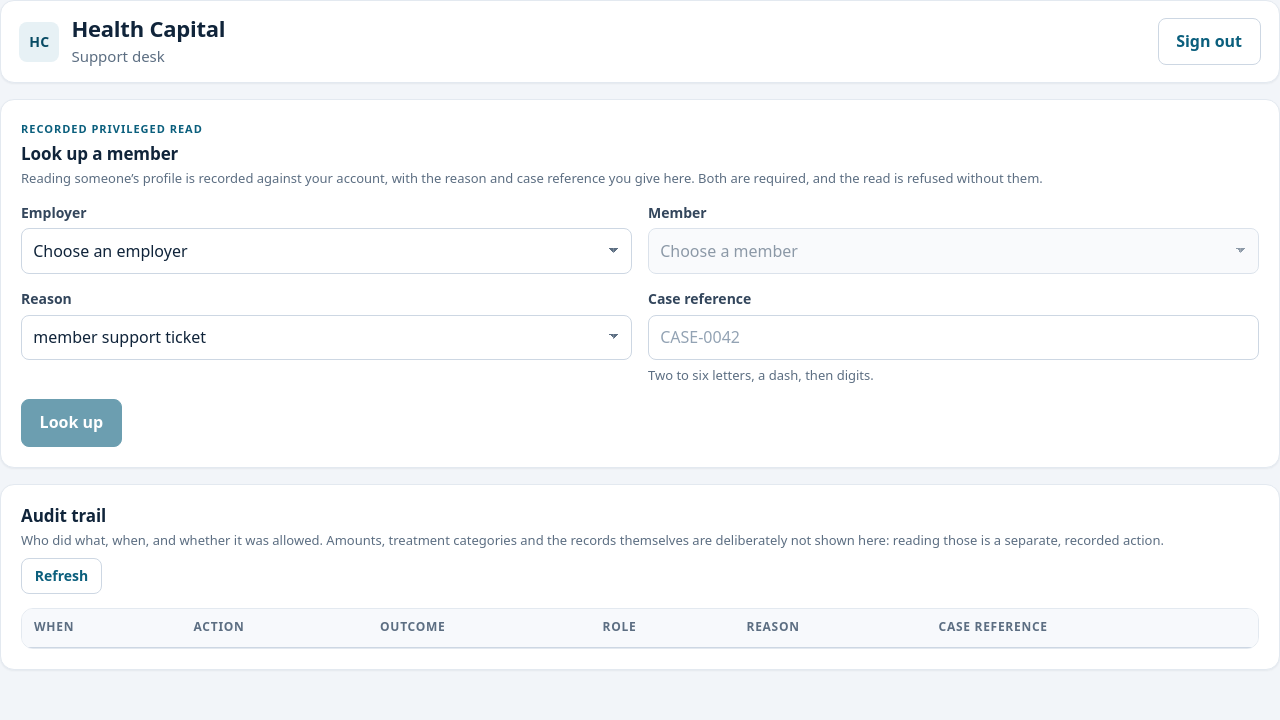
the support view requires a reason and a case reference › shows the audit trail without amounts, categories or member identifiers
Click the button "Refresh" at point(62, 576), box [21,558,102,594]
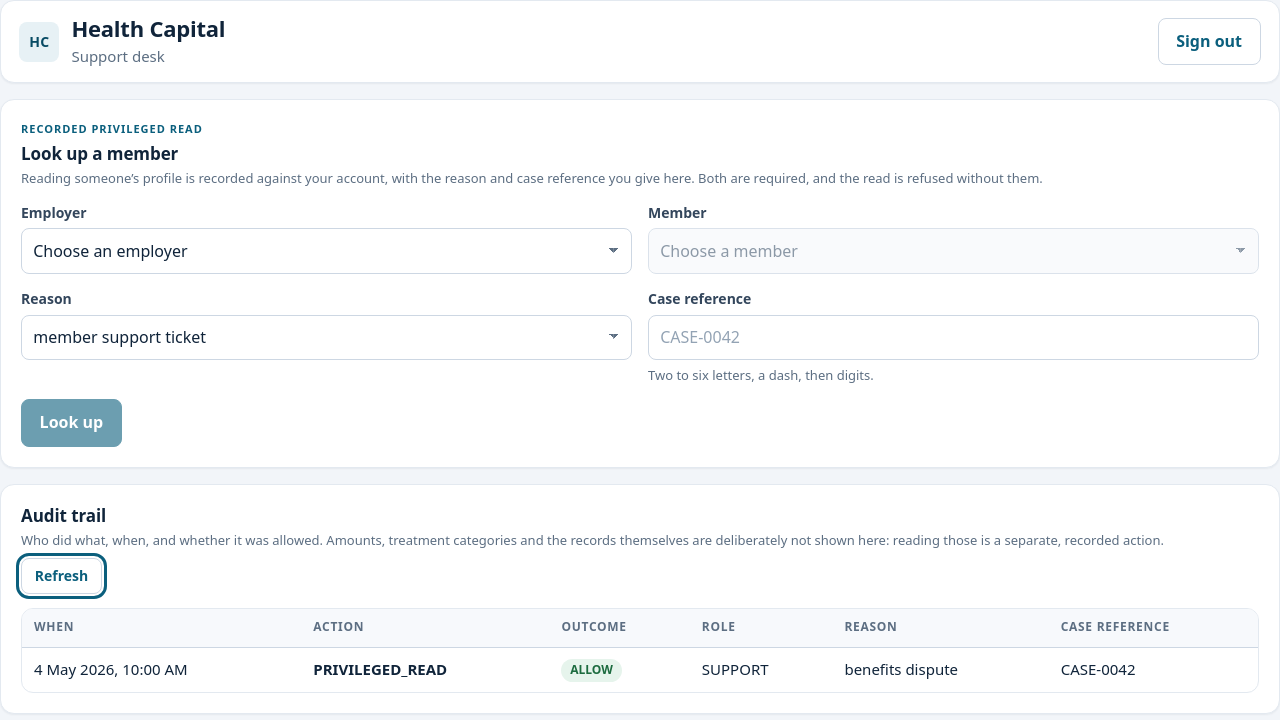
Expected: the table with test id "audit-table" does not show "33333333-3333-4333-8333-000000000001", [22,609,1258,692]
Expected: the table with test id "audit-table" shows "PRIVILEGED_READ", [313,659,447,679]
Expected: the table with test id "audit-table" shows "CASE-0042", [1061,659,1136,679]
